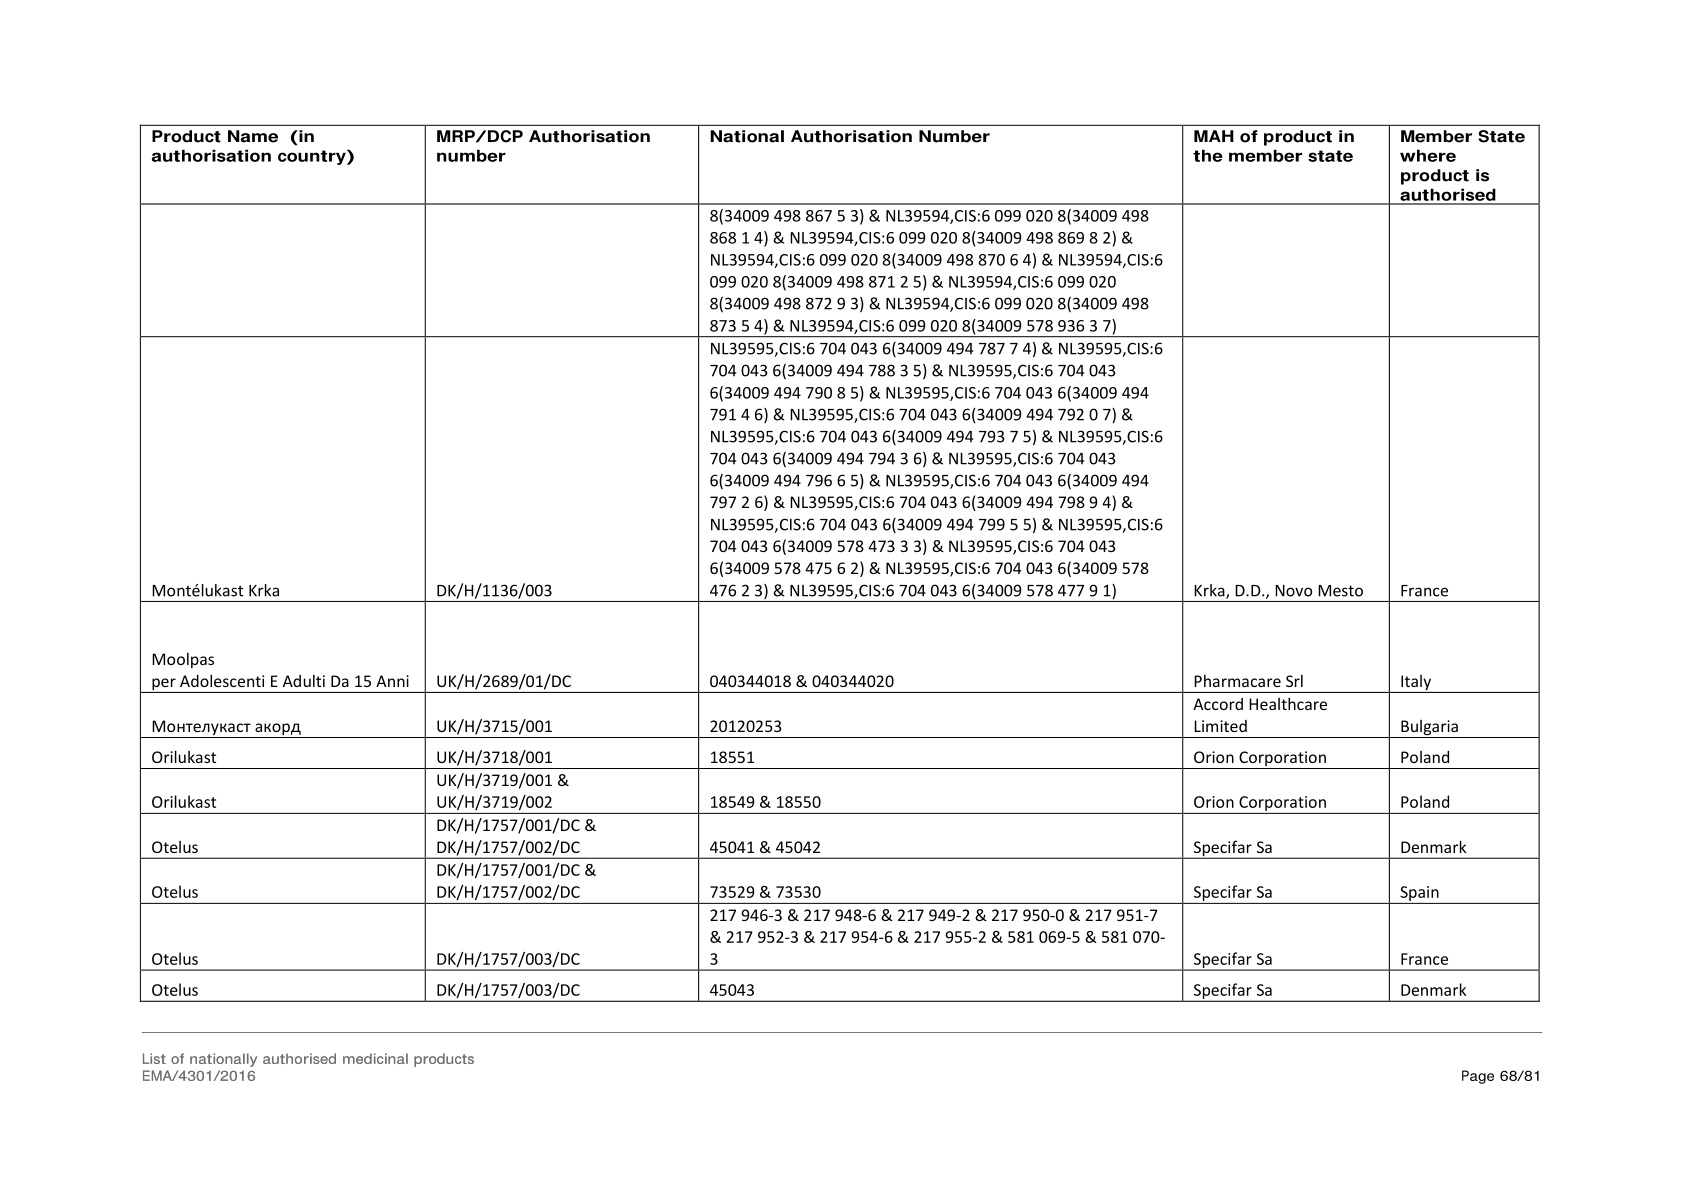full_lined: (138, 124, 1541, 1003)
